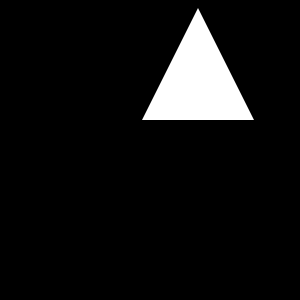triangle: (142, 8, 254, 120)
